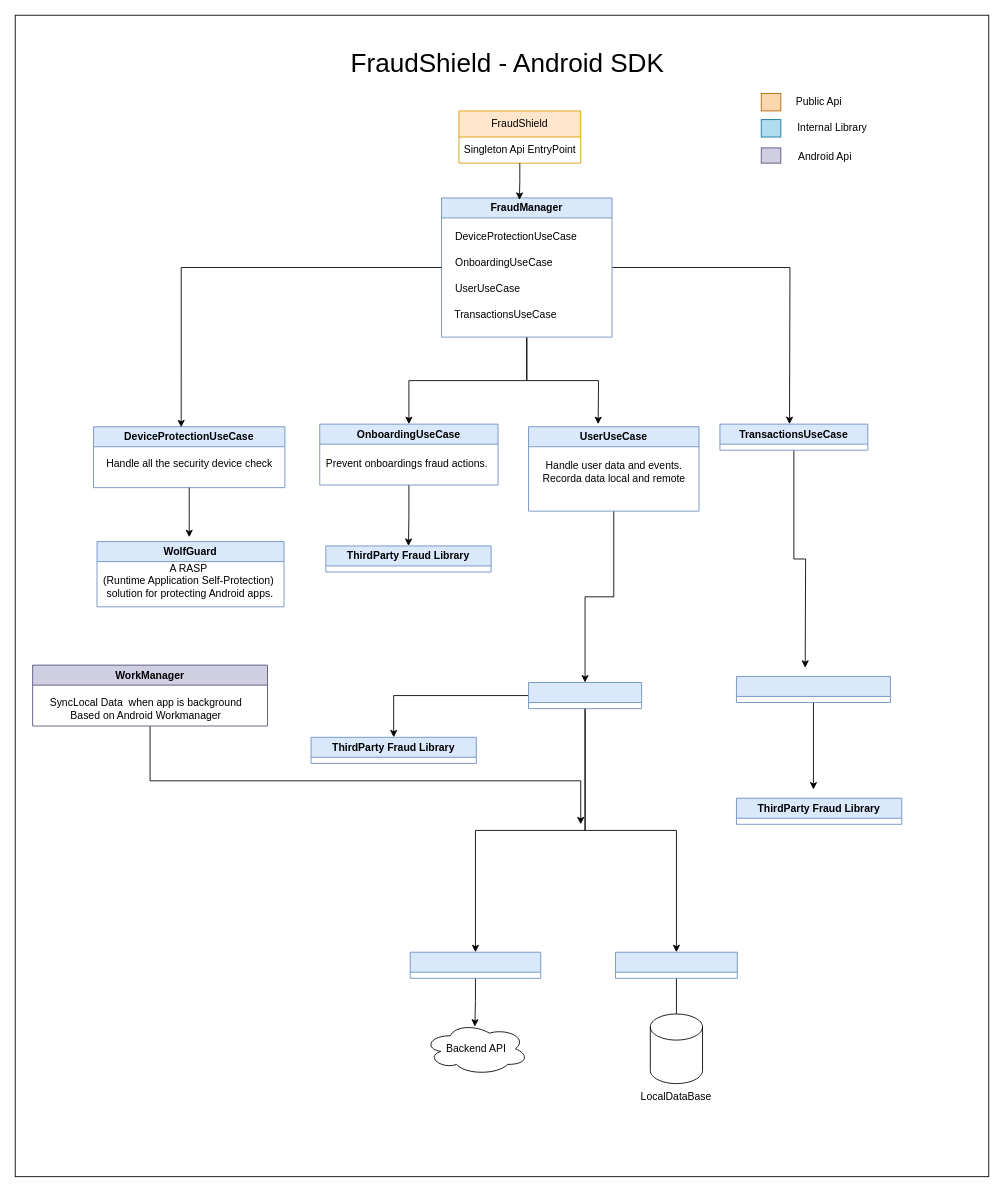
Some shapes in this 1004 by 1192 pixel diagram are drawn without their labels. Each missing label, with the centre of its shape:
LocalDataSource: (676,964)
RemoteDataSource: (475,964)
TransactionsRepository: (813,689)
UserRepository: (585,695)
